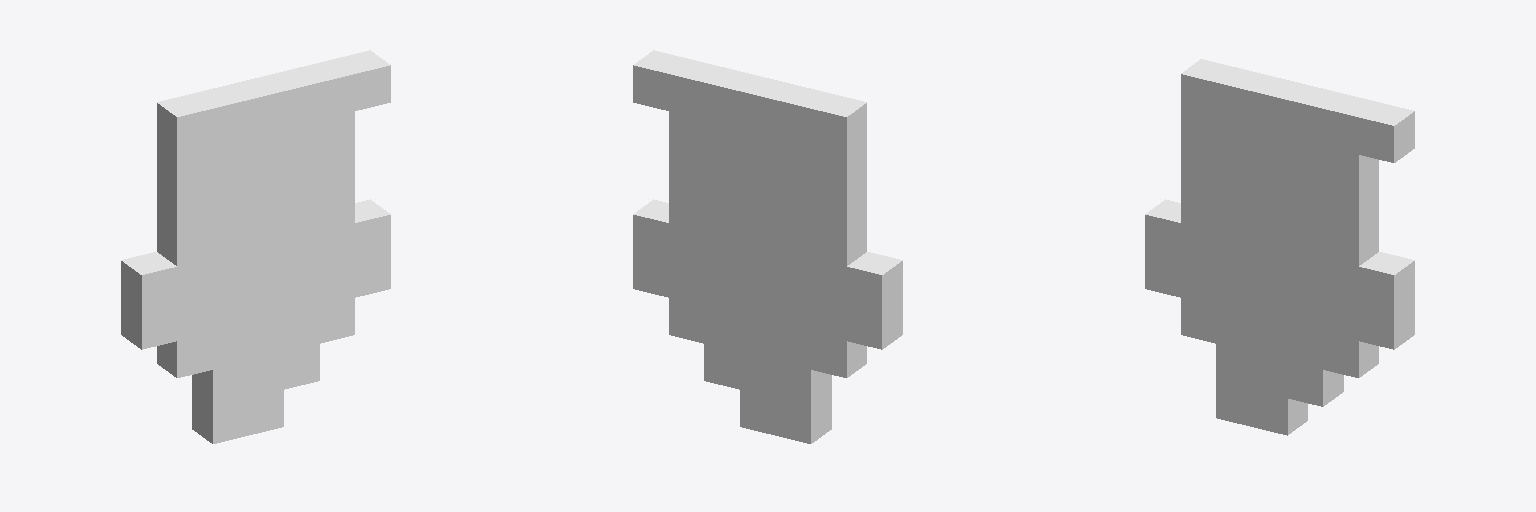
The model's file is Player_walk.obj.
3 views of the same model, side by side, from view 1: azimuth 30°, elevation 25°; view 2: azimuth 150°, elevation 25°; view 3: azimuth 330°, elevation 25° (orthographic).
Visible parts, largest first — view 1: object 2; view 2: object 2; view 3: object 2.
Part boxes in pixels (x1,y1,x2,y2): object 2: (121,50,390,443); object 2: (633,50,902,443); object 2: (1145,59,1414,435).
Bounding box in the file's own units: 0.7 × 0.9 × 0.1.